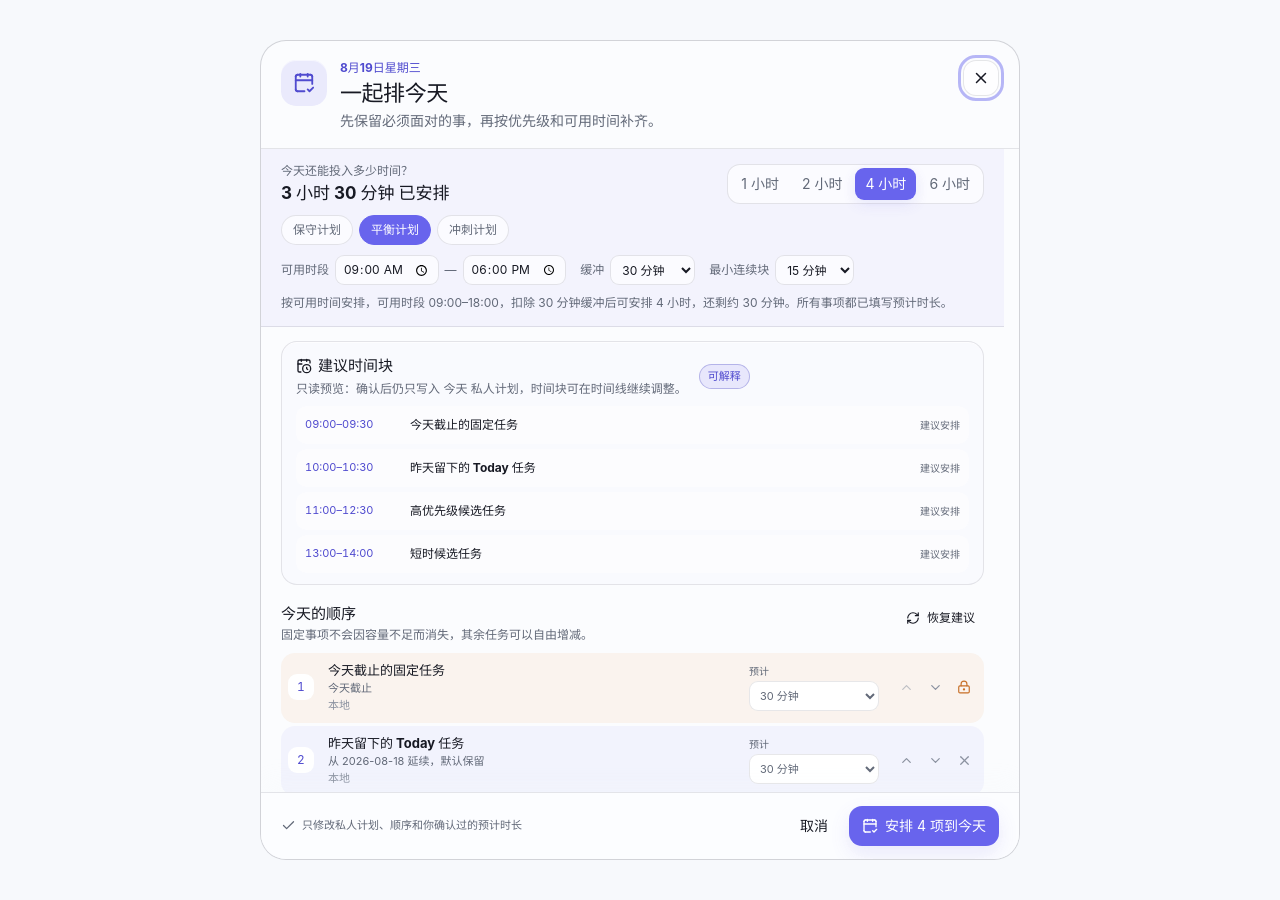
it: DailyPlanSheet › shows a read-only weekday carry-over preview when the day window is full
Clear the time field named "可用时段结束": coordinates (514, 270) [463, 255, 566, 285]
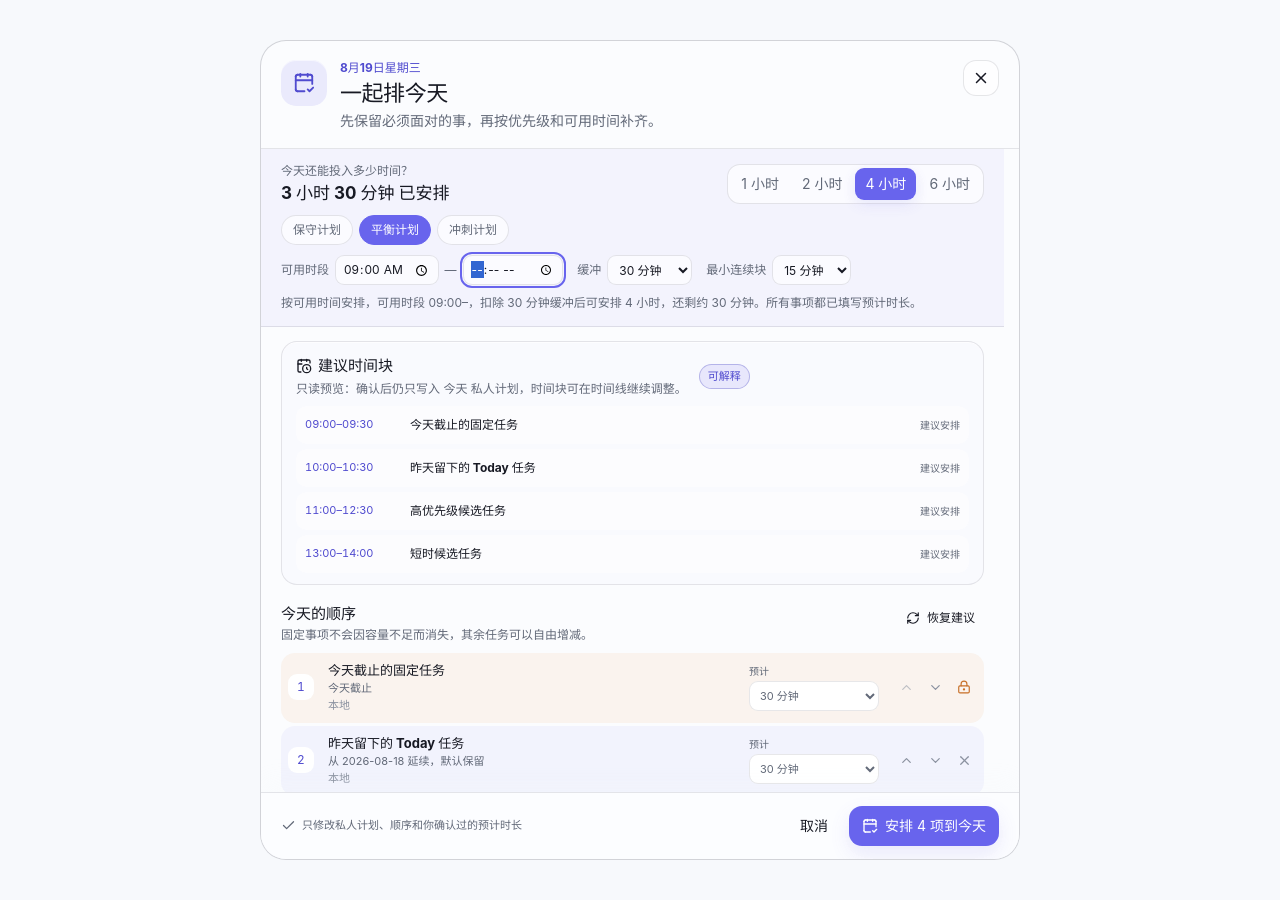
In the time field named "可用时段结束": coordinates (513, 270) [463, 255, 563, 285], type "10:00"
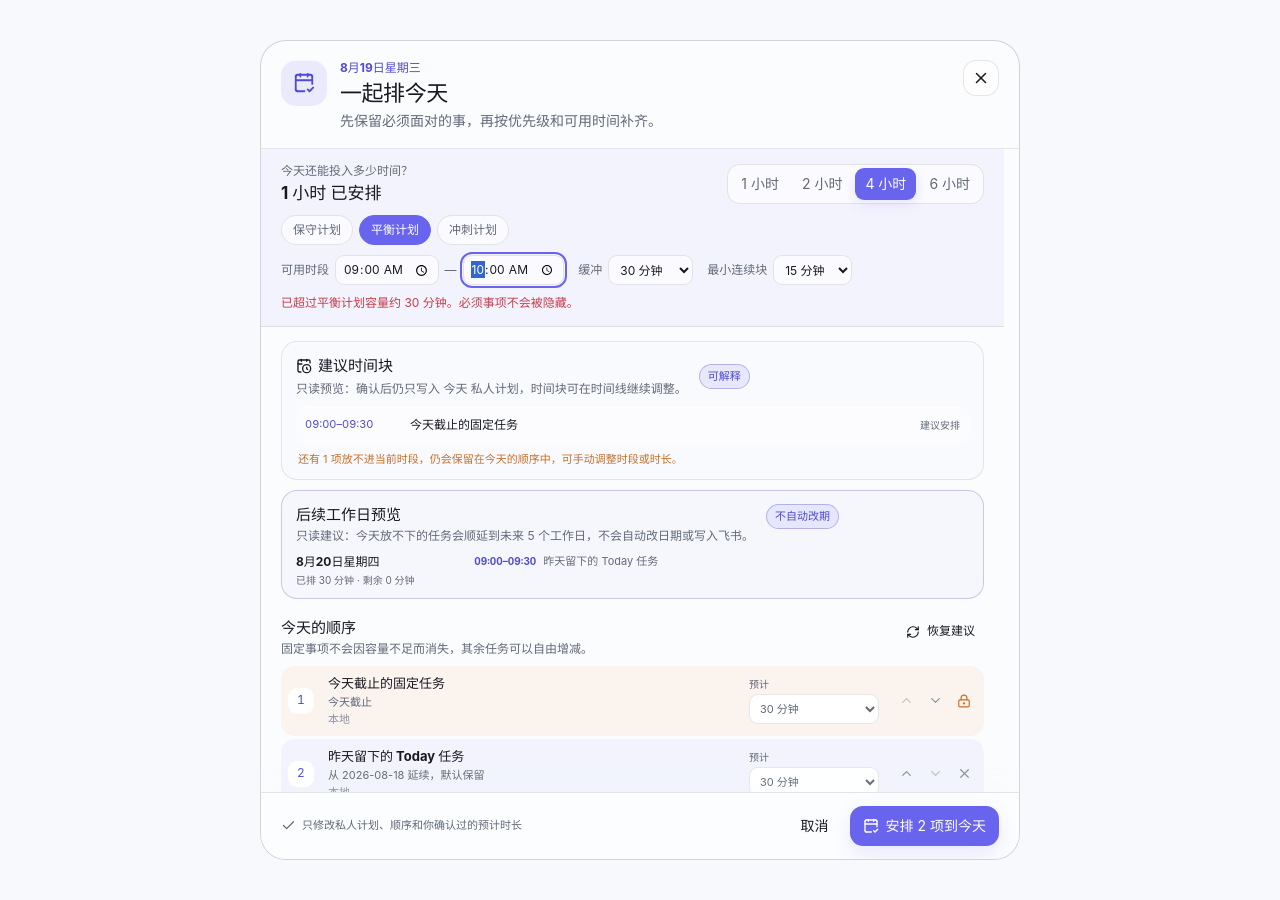
Now the heading "后续工作日预览" is shown, box [296, 505, 401, 524]
Now the text "只读建议：今天放不下的任务" is shown, box [296, 528, 754, 545]
Now the element "后续工作日预览" is shown, box [281, 490, 984, 599]
